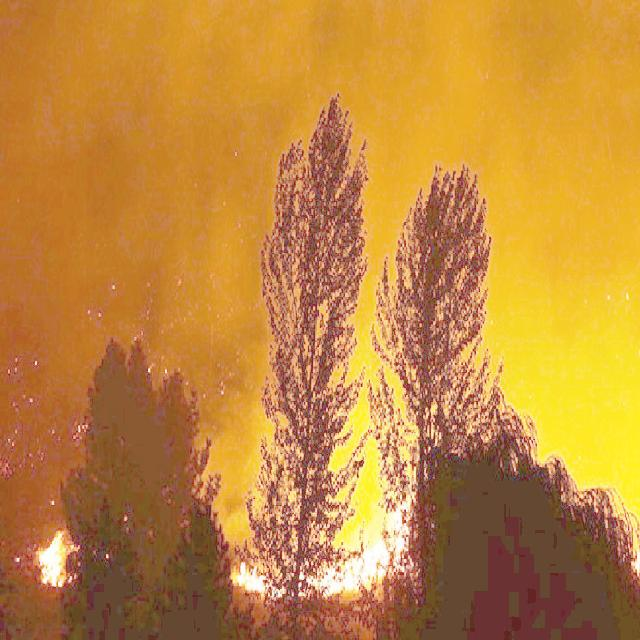api: (232, 493, 422, 606), (28, 523, 85, 592)
